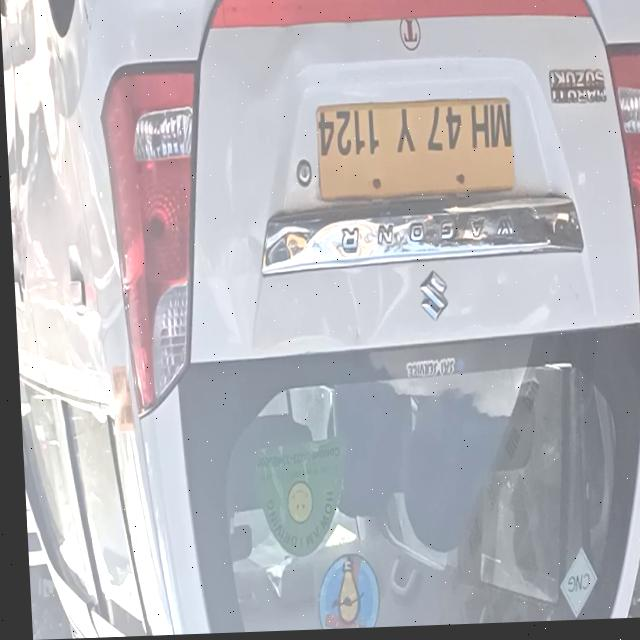plate: (304, 91, 517, 210)
